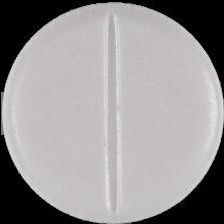68788-9832: (0, 0, 224, 224)
